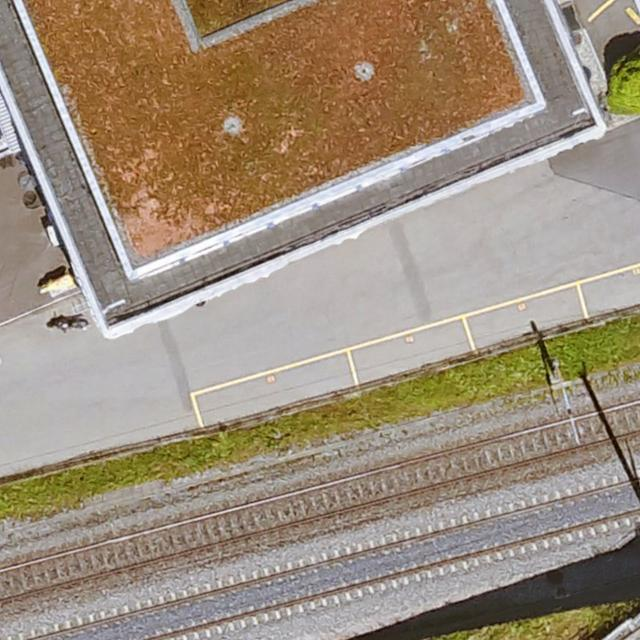tree: (605, 48, 640, 113)
